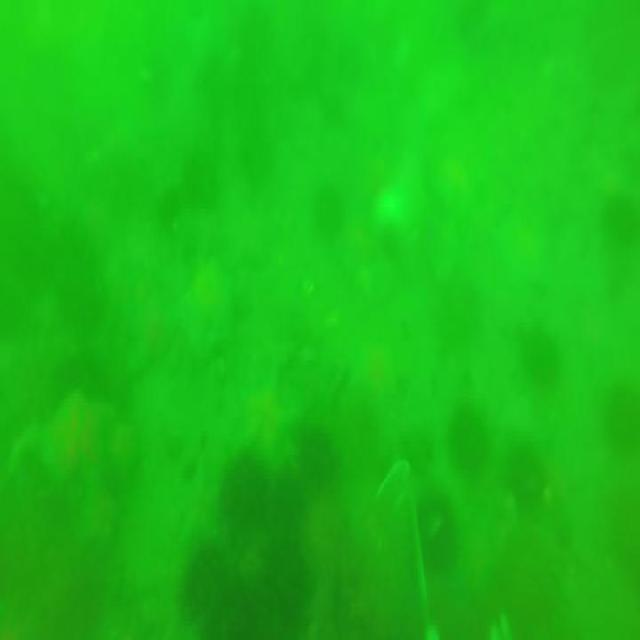echinus: (48, 214, 96, 330), (252, 543, 309, 640), (180, 544, 240, 635), (217, 450, 269, 538), (497, 435, 555, 512), (512, 322, 564, 393), (412, 499, 462, 572), (270, 458, 305, 550), (600, 384, 637, 457), (172, 152, 218, 208), (298, 425, 333, 493), (449, 408, 486, 466), (308, 196, 342, 242)
starfish: (42, 382, 116, 492), (175, 253, 245, 359)
